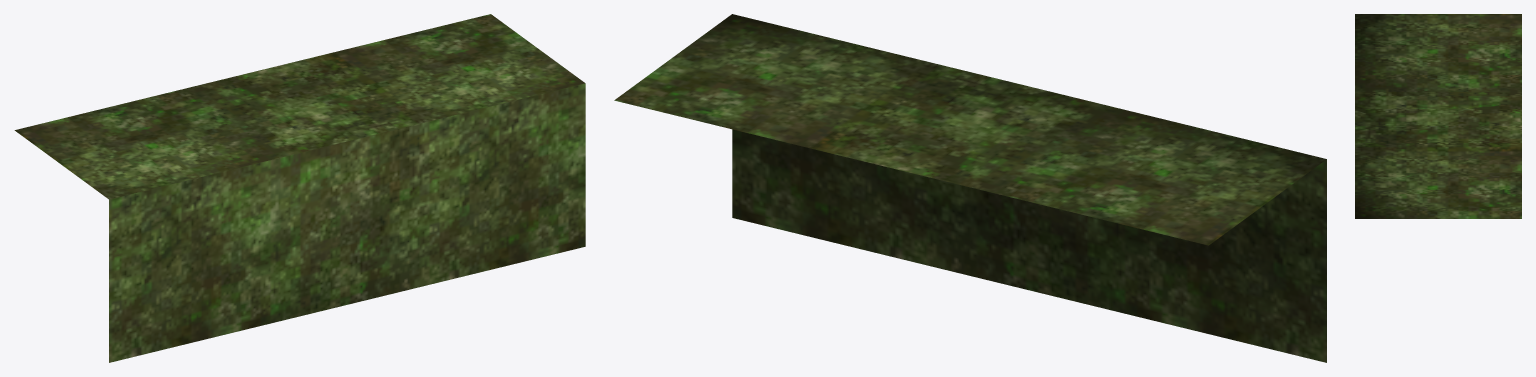
The model's file is OVERHILL_A_01_OBJECT78.fbx.
The picture shows the model from 3 angles, left to right: view 1: azimuth 30°, elevation 25°; view 2: azimuth 150°, elevation 25°; view 3: azimuth 270°, elevation 25°; orthographic projection. The views are drawn at different scales.
Visible parts, largest first — view 1: OVERHILL_A_01_OBJECT78; view 2: OVERHILL_A_01_OBJECT78; view 3: OVERHILL_A_01_OBJECT78.
Boxes of the visible parts, <box> form: OVERHILL_A_01_OBJECT78: <box>14,14,585,362</box>; OVERHILL_A_01_OBJECT78: <box>614,14,1326,362</box>; OVERHILL_A_01_OBJECT78: <box>1355,14,1521,218</box>.
Size of the model in its own units: 48951 by 16035 by 16852.
1 material, 1 textured.
